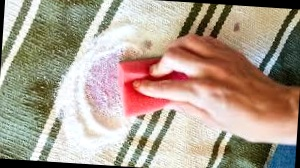wine: (90, 63, 128, 108)
